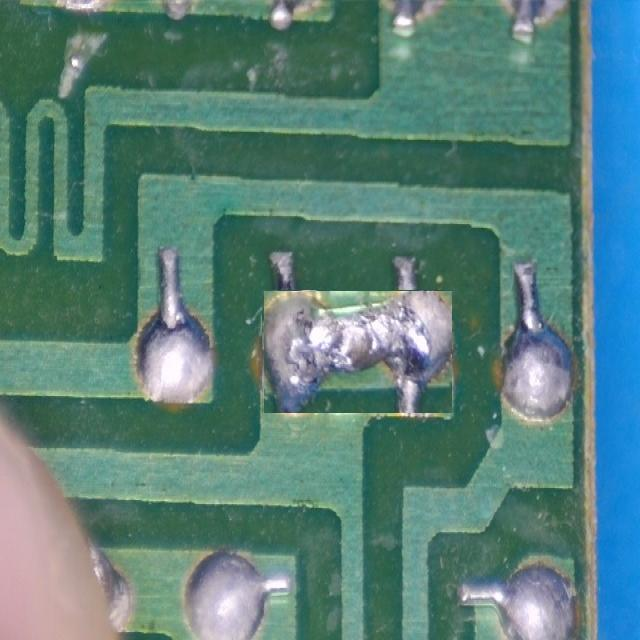Short_circuit: (263, 290, 452, 413)
